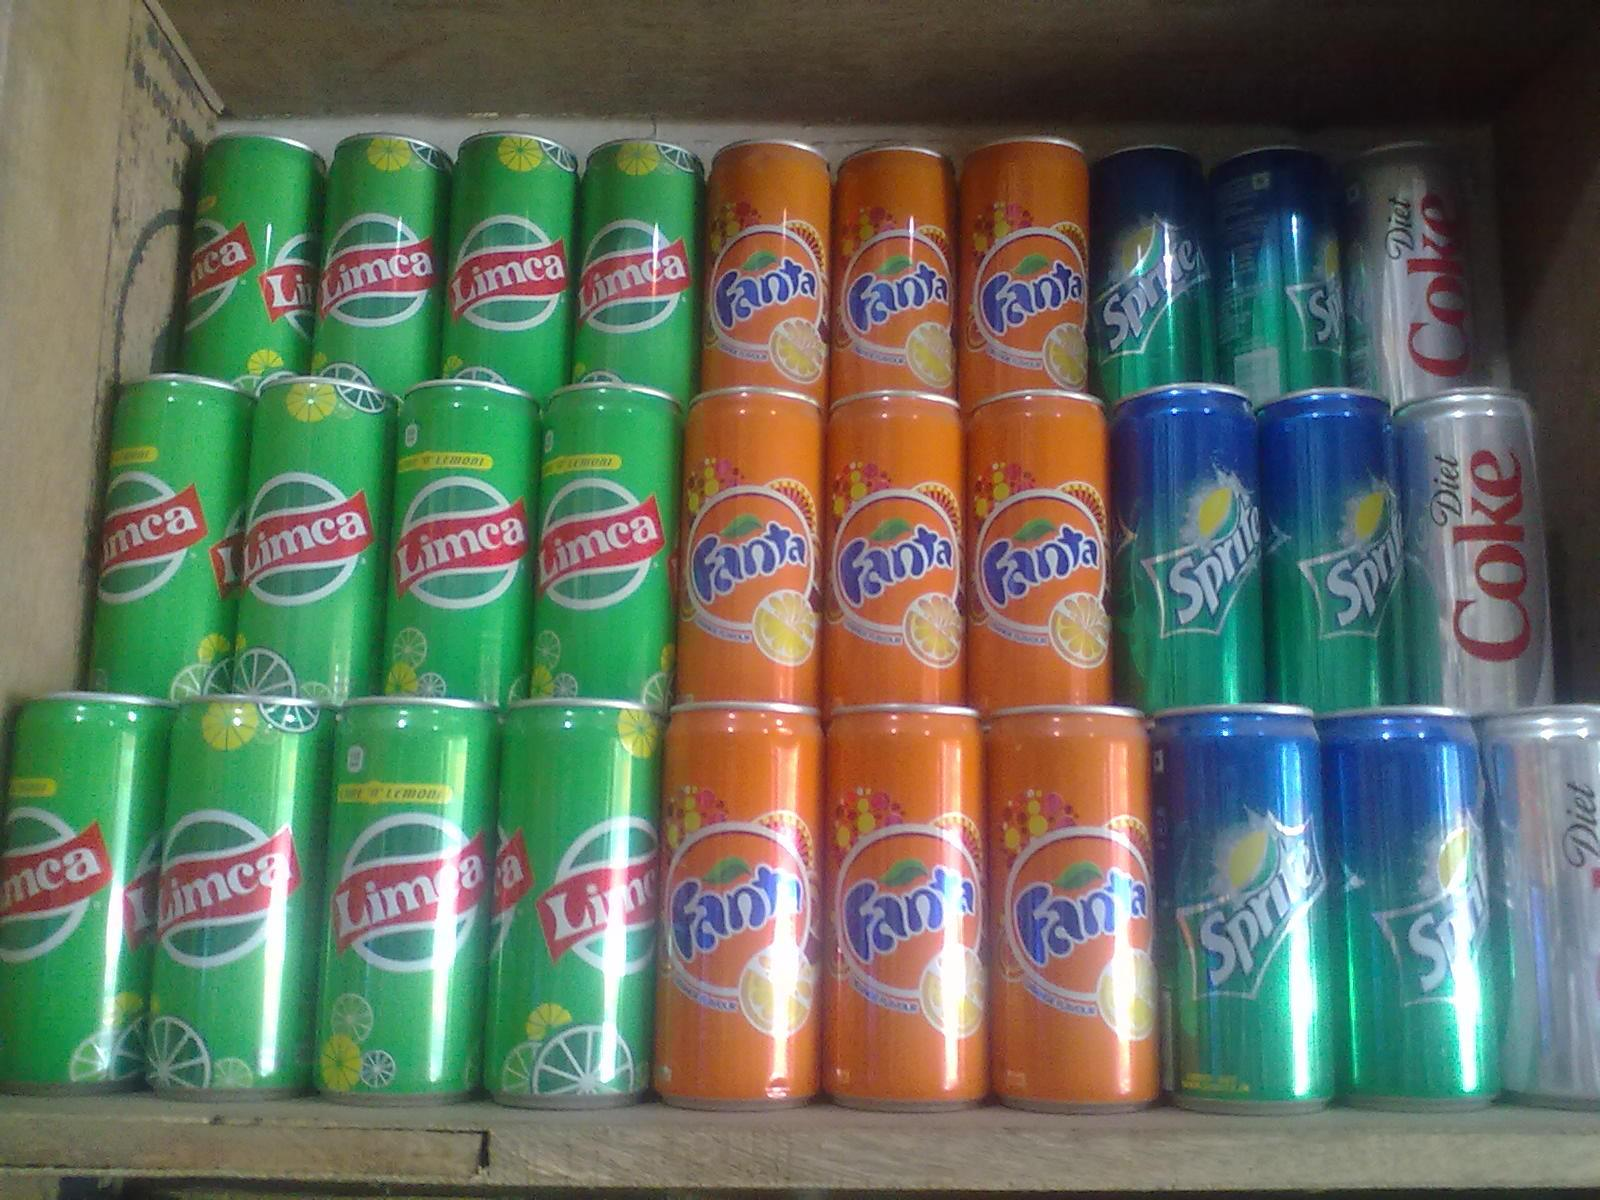dietcoke: (1424, 439, 1545, 676)
fanta: (1002, 834, 1154, 1003), (835, 827, 981, 997), (666, 824, 814, 992), (688, 492, 820, 634), (833, 494, 963, 638), (976, 495, 1101, 639), (840, 229, 952, 358), (712, 228, 821, 358), (971, 233, 1086, 353)
limca: (514, 808, 659, 987), (331, 816, 483, 984), (163, 811, 309, 976), (396, 480, 528, 620), (248, 471, 373, 611), (540, 480, 663, 618), (449, 219, 568, 338), (323, 222, 433, 334), (580, 227, 688, 339)
sprite: (1186, 814, 1325, 995), (1124, 480, 1266, 648), (1303, 484, 1407, 650), (1100, 216, 1204, 354)
